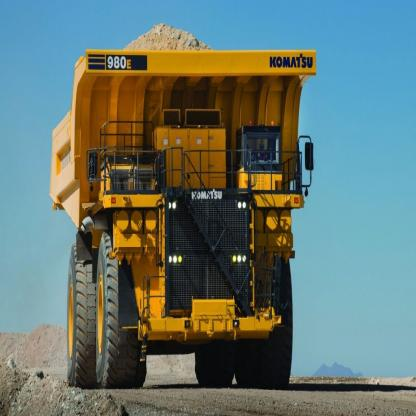dump_truck: (46, 21, 316, 390)
